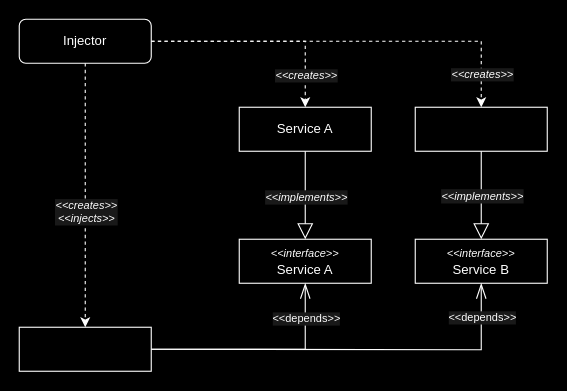
This 567x391 diagram has some shape labels left out. Each missing label, with the box of its shape:
Client A: (18, 326, 151, 371)
Service B: (414, 106, 547, 151)
